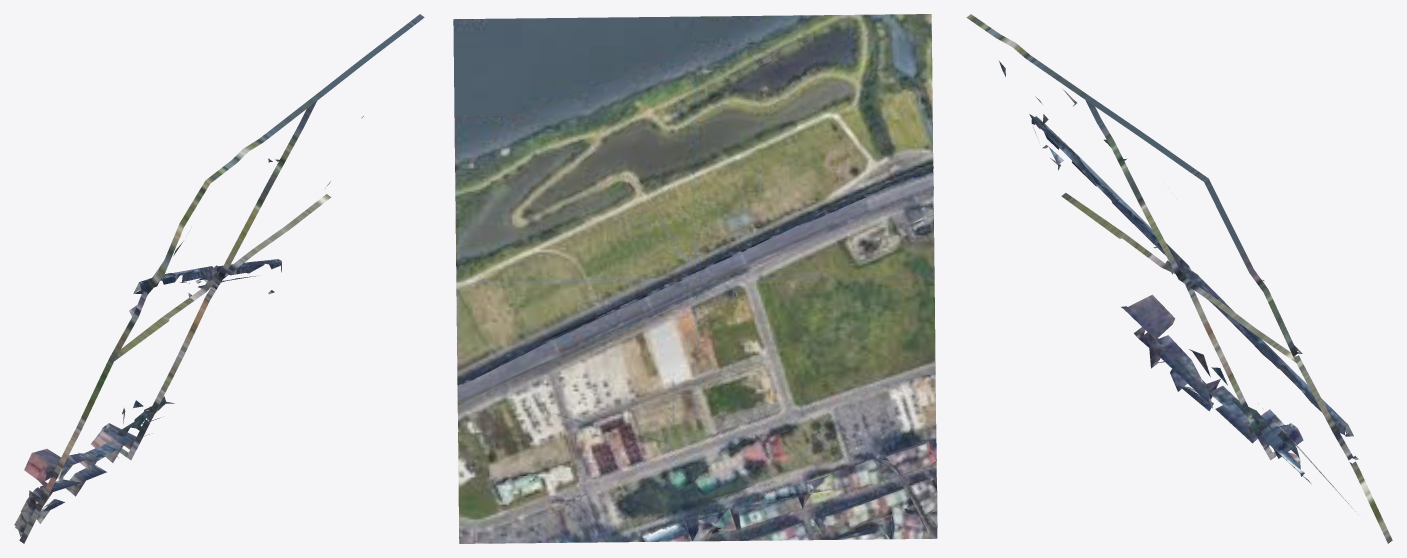
3 renders of one model, left to right at view 1: azimuth 30°, elevation 25°; view 2: azimuth 150°, elevation 25°; view 3: azimuth 270°, elevation 25°, orthographic. The views are drawn at different scales.
Bounding box in the file's own units: 617 × 554 × 519.
Materials: 1 (1 with a texture image).
